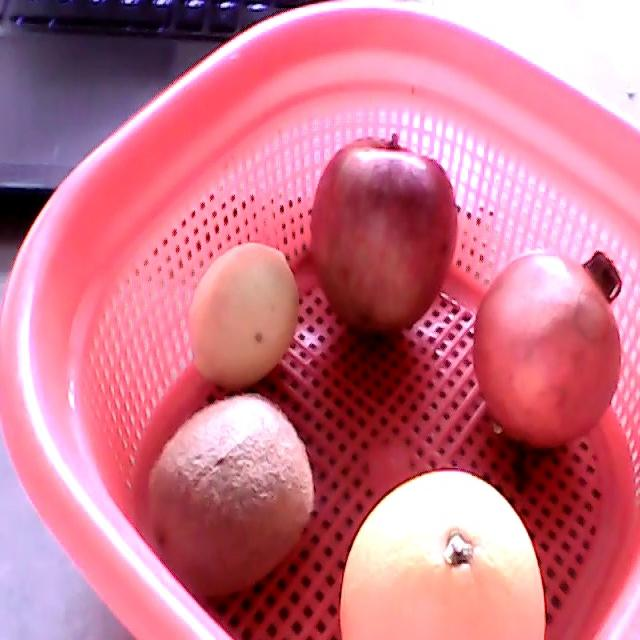apple: (310, 134, 457, 331)
kiwi: (147, 393, 315, 597)
lemon: (188, 242, 298, 386)
orange: (339, 468, 545, 639)
pomegranate: (473, 250, 622, 451)
